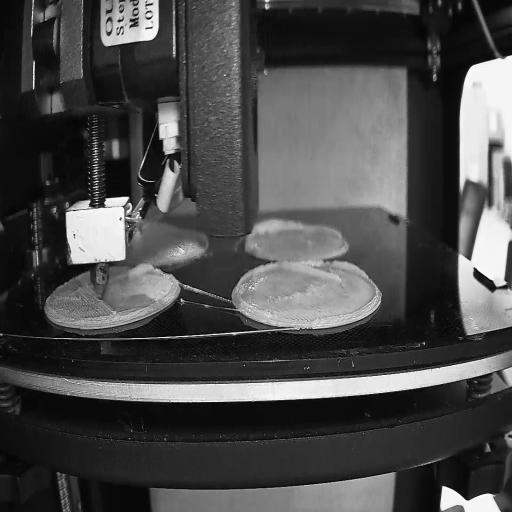over_extrusion: (281, 260, 371, 289), (236, 260, 275, 320), (254, 216, 304, 238), (121, 261, 158, 280)
